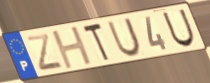4: (145, 15, 168, 52)
H: (50, 24, 95, 71)
T: (81, 21, 112, 65)
U: (106, 17, 143, 59), (161, 8, 197, 49)
Z: (25, 32, 66, 73)
